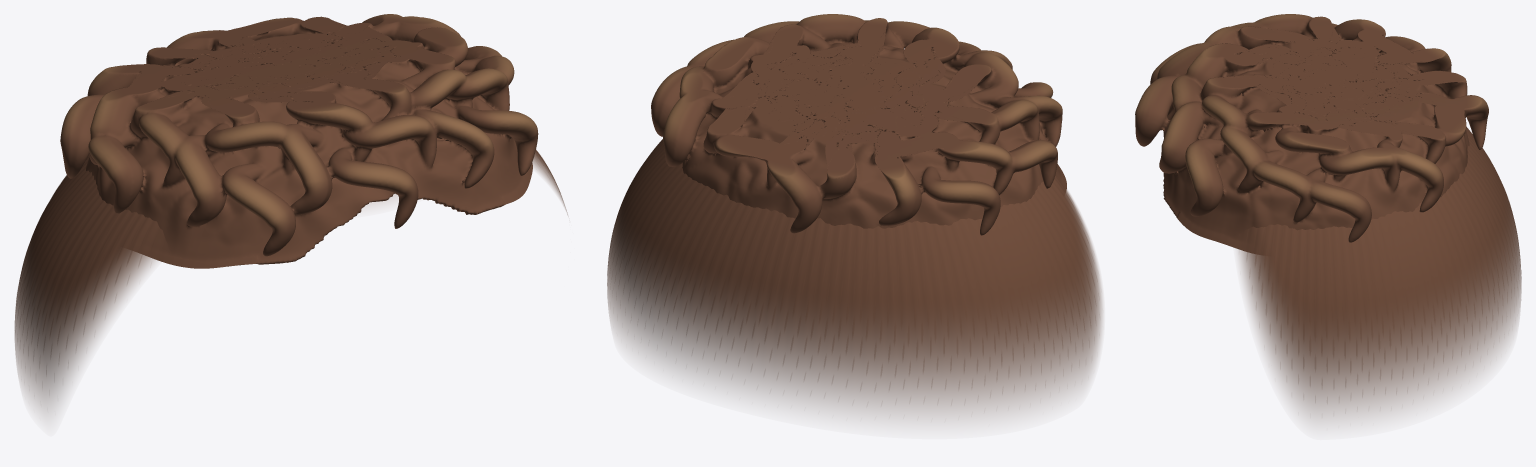
Rendered from Masculine-curly-top-bucket257-hair-ombre.glb.
3 views of the same model, side by side, from view 1: azimuth 30°, elevation 25°; view 2: azimuth 150°, elevation 25°; view 3: azimuth 270°, elevation 25° (orthographic). The views are drawn at different scales.
Visible parts, largest first — view 1: 226 hair / Hair252 / sculpted curl groups, 226 hair / Hair257 / smooth side fade, 226 hair / Hair257 / directional fade marks; view 2: 226 hair / Hair257 / smooth side fade, 226 hair / Hair252 / sculpted curl groups, 226 hair / Hair257 / directional fade marks; view 3: 226 hair / Hair252 / sculpted curl groups, 226 hair / Hair257 / smooth side fade, 226 hair / Hair257 / directional fade marks.
Boxes of the visible parts, <box> form: 226 hair / Hair252 / sculpted curl groups: <box>60,14,538,268</box>; 226 hair / Hair257 / smooth side fade: <box>14,52,567,412</box>; 226 hair / Hair257 / directional fade marks: <box>16,151,543,374</box>; 226 hair / Hair257 / smooth side fade: <box>607,76,1102,418</box>; 226 hair / Hair252 / sculpted curl groups: <box>651,14,1066,235</box>; 226 hair / Hair257 / directional fade marks: <box>617,139,1095,388</box>; 226 hair / Hair252 / sculpted curl groups: <box>1135,14,1488,253</box>; 226 hair / Hair257 / smooth side fade: <box>1236,66,1521,420</box>; 226 hair / Hair257 / directional fade marks: <box>1246,128,1518,386</box>.
Size of the model in its own units: 0.9723 by 0.6147 by 0.7499.
